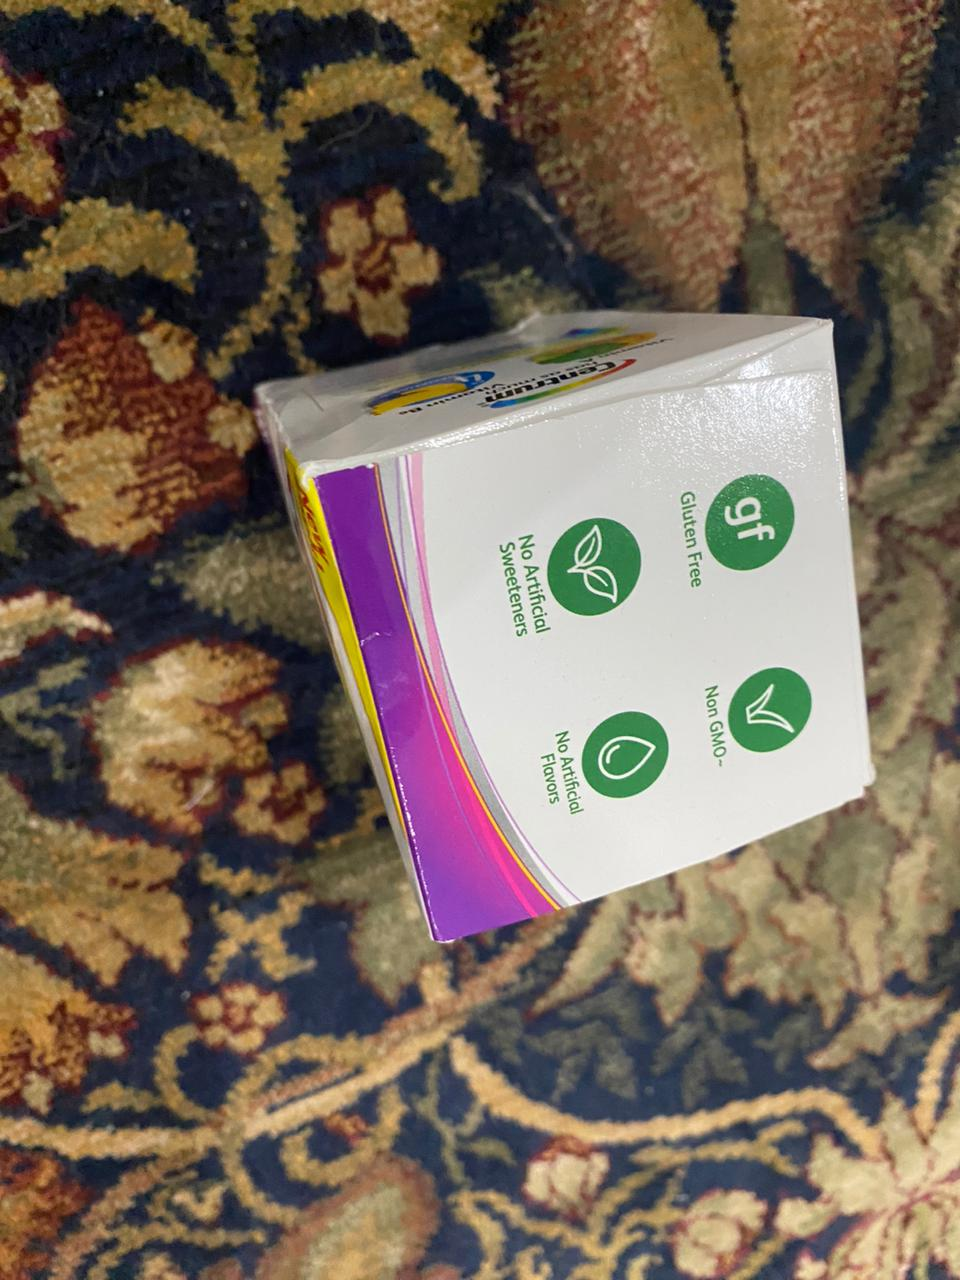Centrum: (250, 305, 884, 952)
